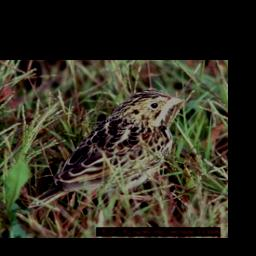Sparrow: (24, 88, 191, 214)
